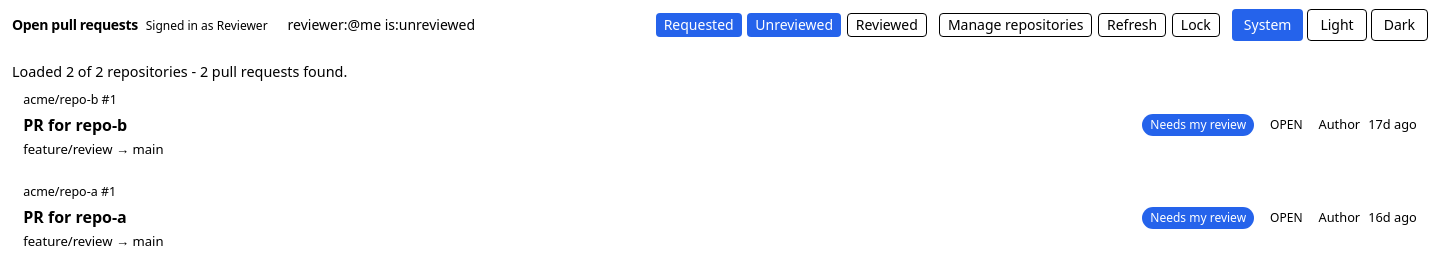
Test: InboxScreen › filters rows by the query text field
Replace the text in the search field with "repo:repo-a" at (462, 25), box x1=280 y1=13 x2=644 y2=37
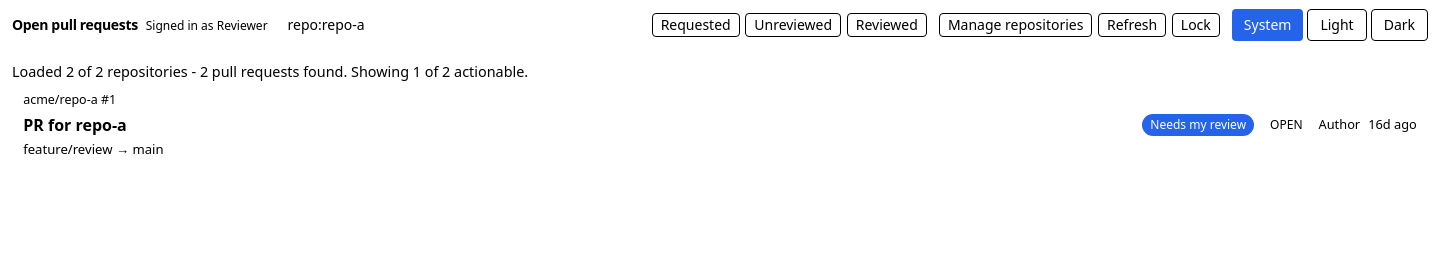
Expected: the text "PR for repo-a" is shown, x1=23 y1=114 x2=127 y2=136
Expected: the button "PR for repo-b" is gone
